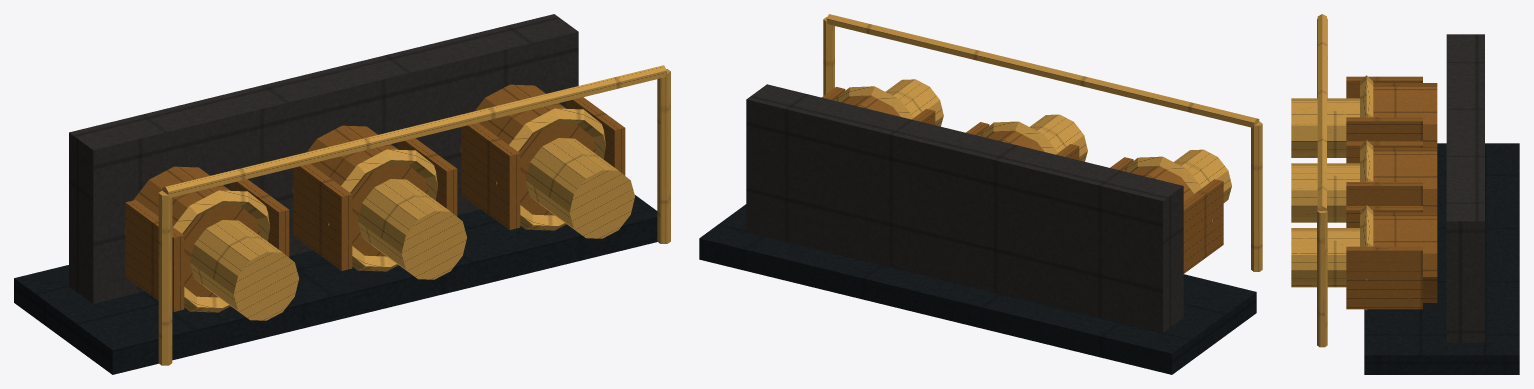
Rendered from engine-glow-ward.e10.glb.
The picture shows the model from 3 angles, left to right: view 1: azimuth 30°, elevation 25°; view 2: azimuth 150°, elevation 25°; view 3: azimuth 270°, elevation 25°; orthographic projection. The views are drawn at different scales.
Parts seen in each view (by area): view 1: EngineGlowWardE10; view 2: EngineGlowWardE10; view 3: EngineGlowWardE10.
Boxes of the visible parts, x1,y1,x2,y2 form: EngineGlowWardE10: (14,14,670,374); EngineGlowWardE10: (699,14,1262,374); EngineGlowWardE10: (1291,14,1519,374).
Size of the model in its own units: 4.2 by 1.47 by 1.91.
Materials: 1 (1 with a texture image).
